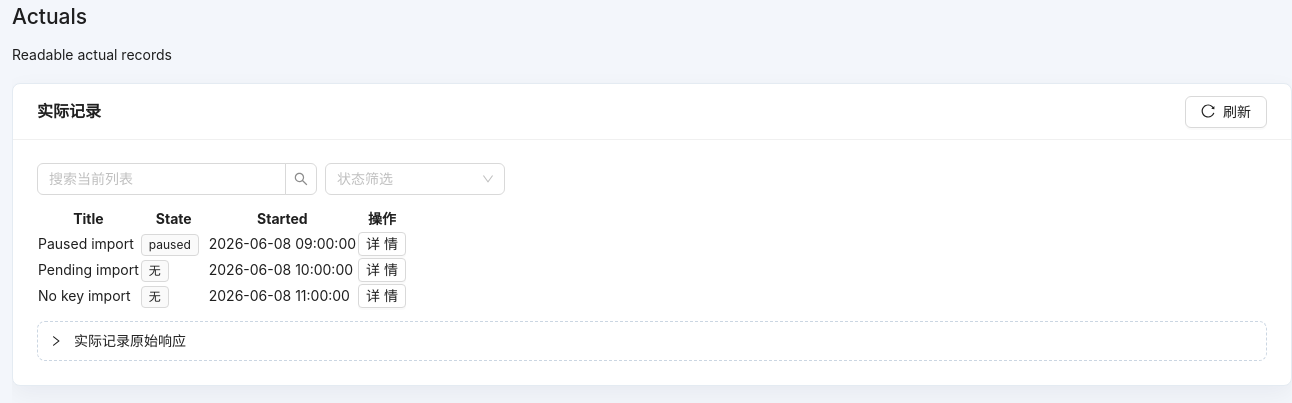
Scenario: BusinessListPage › keeps endpoint query params and filters rows by fallback status fields
The image size is (1292, 403).
Expected: the text "Paused import" is shown, [37,231,140,257]
Expected: the text "2026-06-08 09:00:00" is shown, [208,231,357,257]
Step 1. Press the mouse on the element showing "状态筛选" → (415,179), box [325,163,505,195]
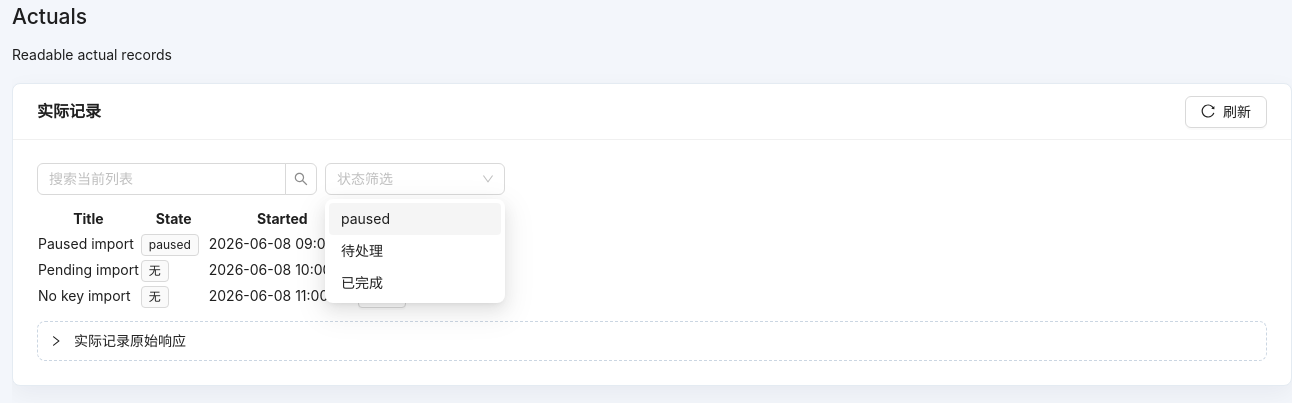
Step 2. Click the element showing "paused" → (415,219), box [329,203,501,235]
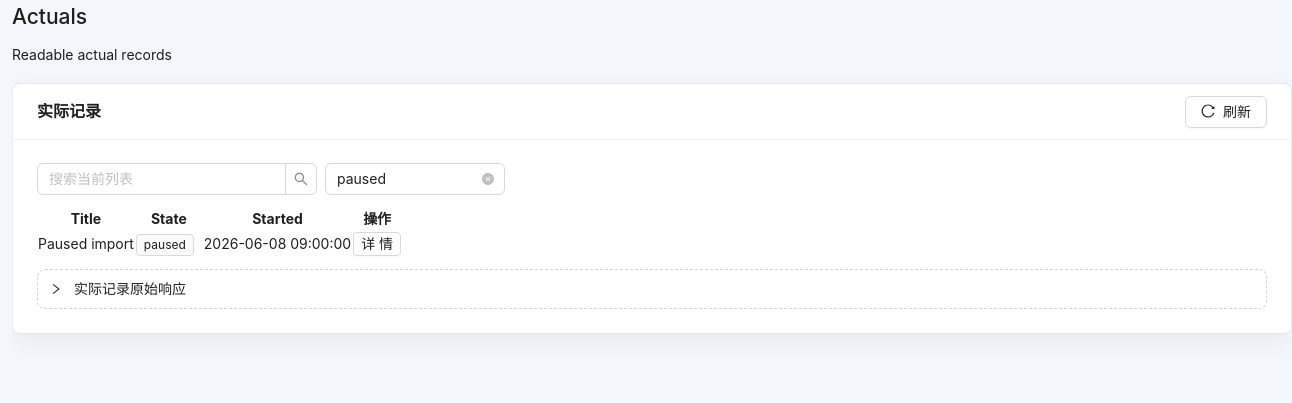
Expected: the text "Paused import" is shown, [37,231,135,257]
Result: the text "Pending import" is gone
